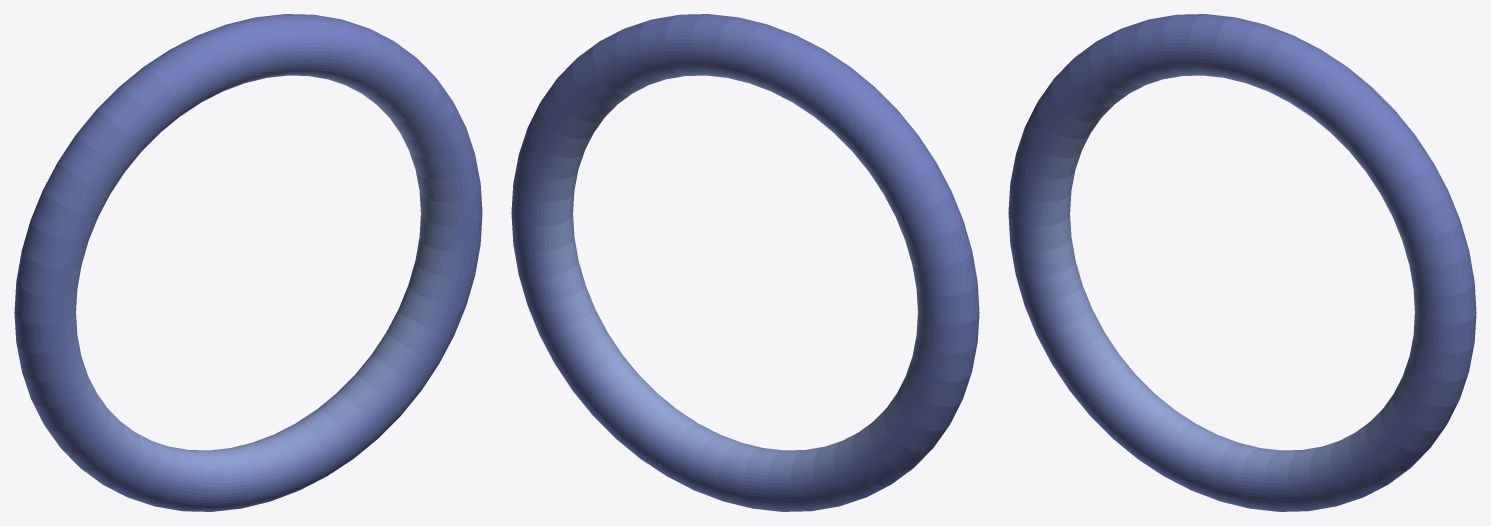
The picture shows the model from 3 angles, left to right: view 1: azimuth 30°, elevation 25°; view 2: azimuth 150°, elevation 25°; view 3: azimuth 330°, elevation 25°; orthographic projection.
Visible parts, largest first — view 1: world; view 2: world; view 3: world.
Boxes of the visible parts, x1,y1,x2,y2 form: world: (14,14,482,511); world: (511,14,979,511); world: (1008,14,1476,511).
Size of the model in its own units: 24.13 by 24.09 by 2.79.
